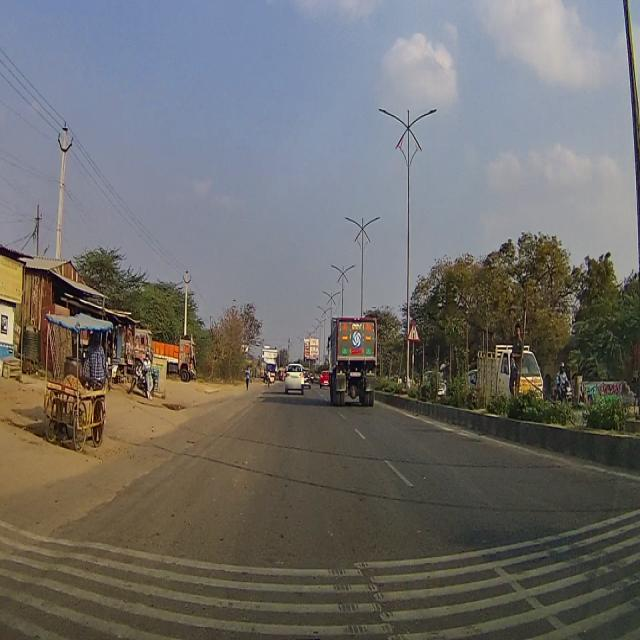gap-in-median: (407, 321, 420, 340)
